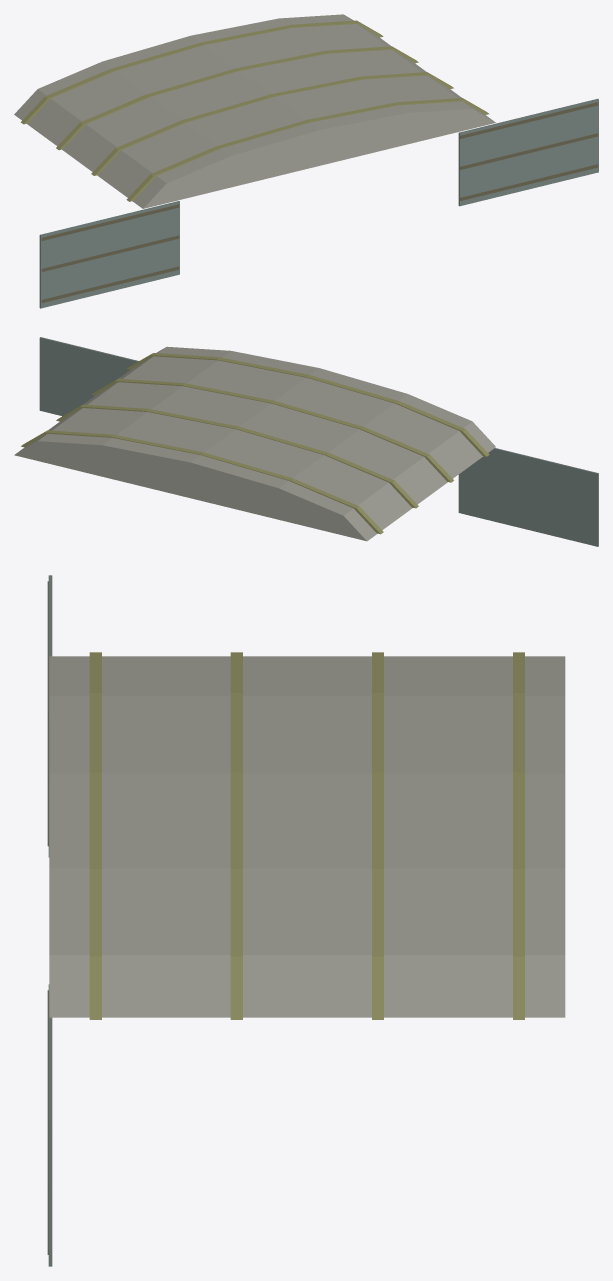
The model's file is SM_HangarAbierto_v0_Taller_LOD1.fbx.
The picture shows the model from 3 angles, top to bottom: view 1: azimuth 30°, elevation 25°; view 2: azimuth 150°, elevation 25°; view 3: azimuth 270°, elevation 25°; orthographic projection. The views are drawn at different scales.
Parts seen in each view (by area): view 1: Cubierta, Porton_O, Porton_E; view 2: Cubierta, Porton_O, Porton_E; view 3: Cubierta, Porton_E, Porton_O.
Boxes of the visible parts, x1,y1,x2,y2 form: Cubierta: (14,14,495,208); Porton_O: (39,201,179,308); Porton_E: (458,98,598,206); Cubierta: (14,346,495,541); Porton_O: (458,448,598,546); Porton_E: (39,337,138,416); Cubierta: (49,652,565,1019); Porton_E: (47,984,52,1266); Porton_O: (47,575,52,857).
Size of what is drawn, in the model's own units: 63.98 by 12.13 by 25.69.
